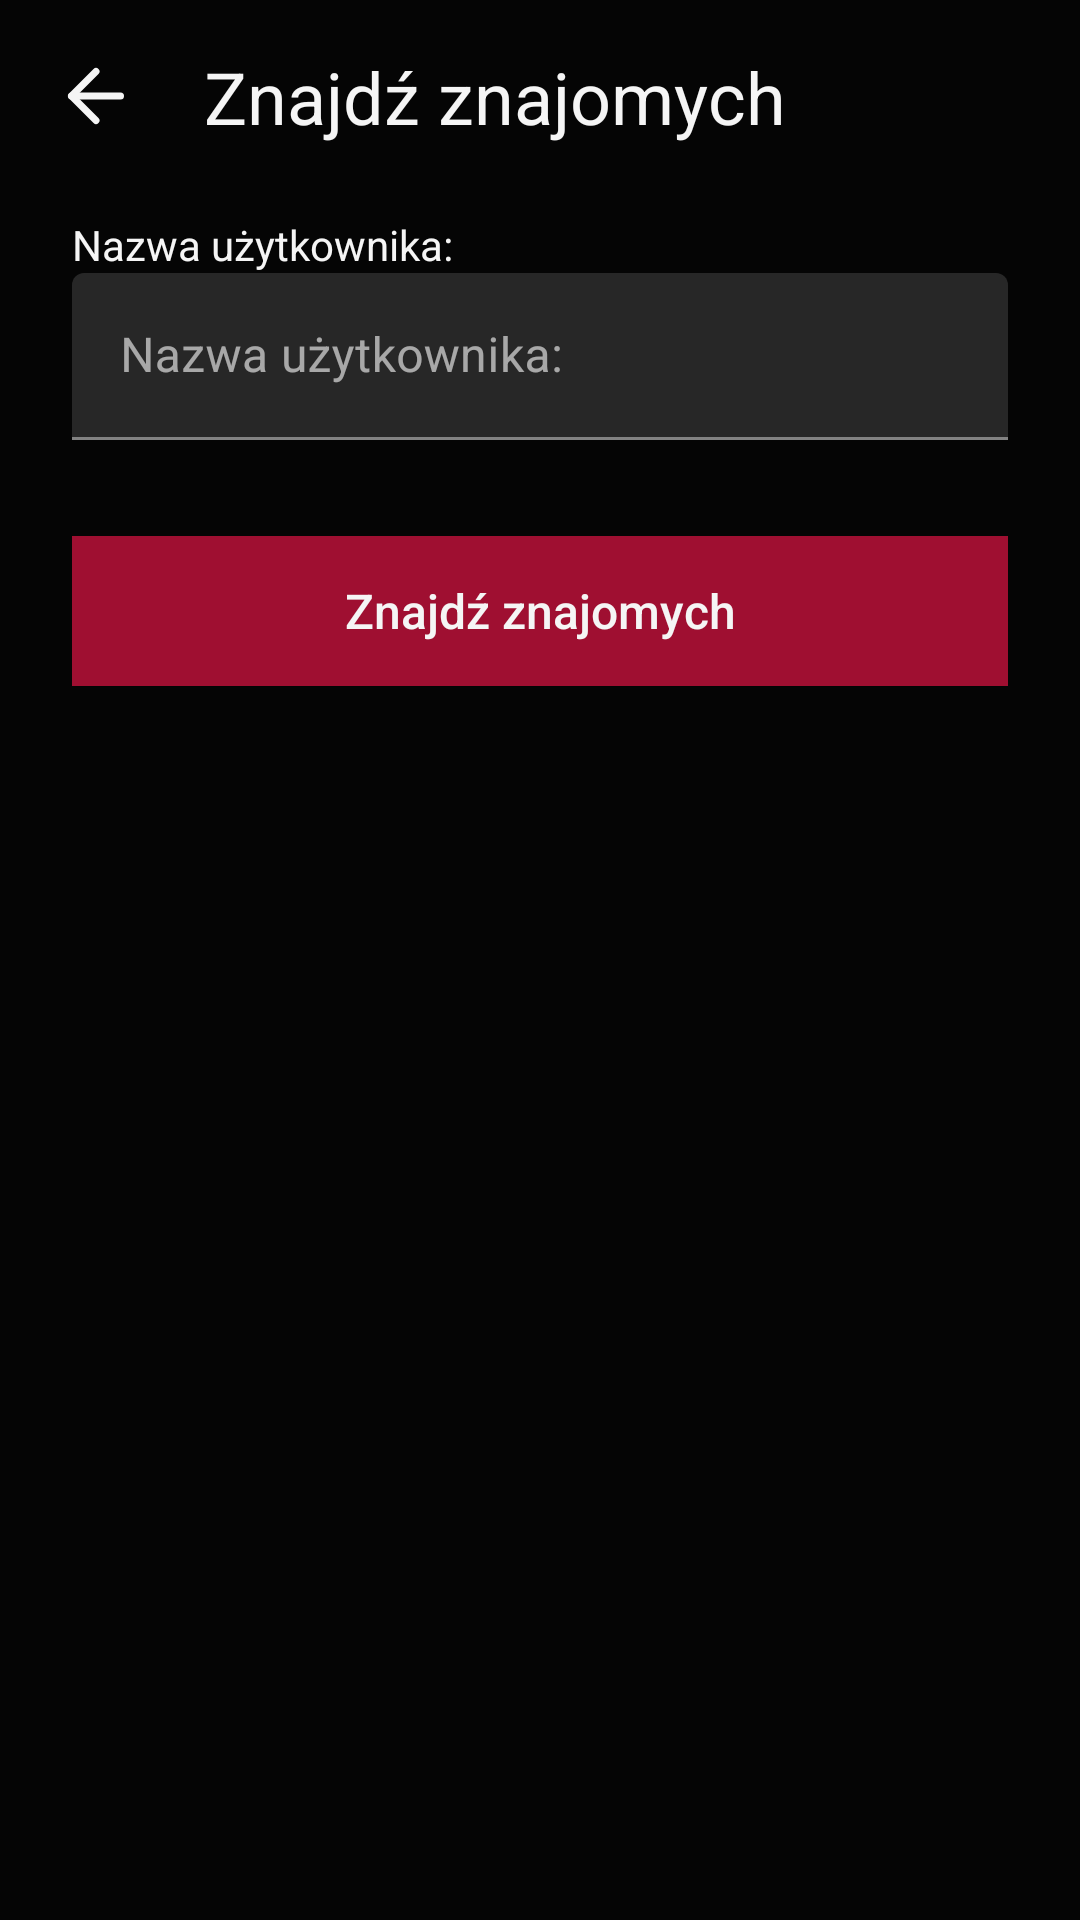

Named icons in this screenshot (1080*1920) and their centers, point (x, y):
Go Back: point (96, 96)
